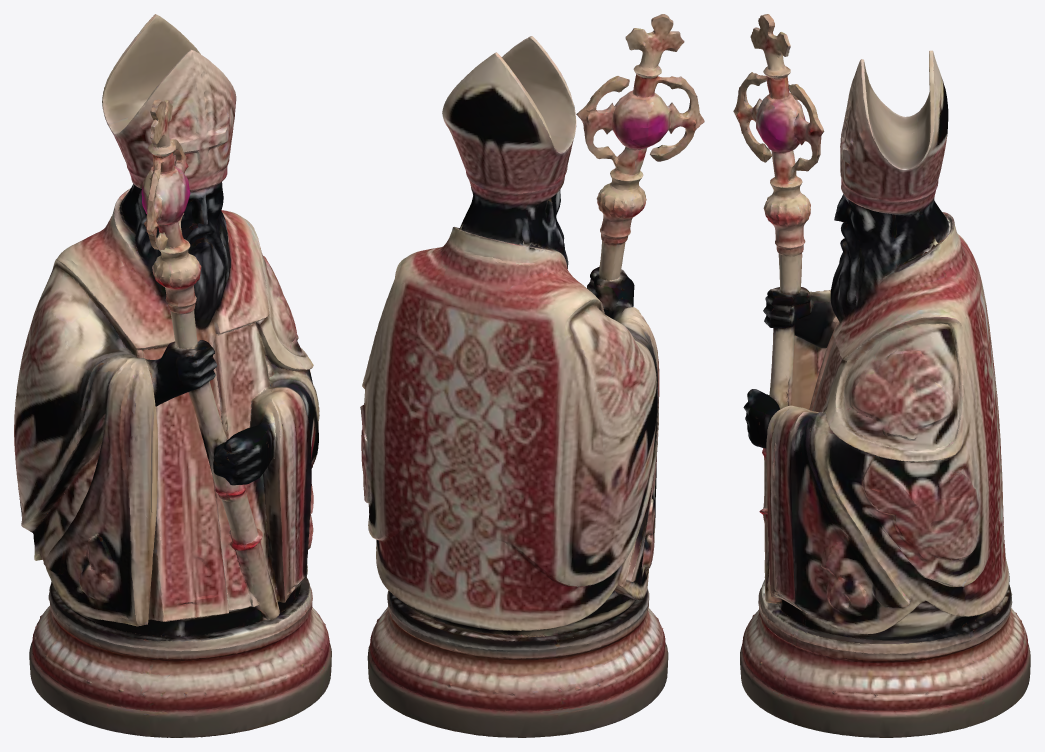
File: bishop_black.glb
The picture shows the model from 3 angles, left to right: view 1: azimuth 30°, elevation 25°; view 2: azimuth 150°, elevation 25°; view 3: azimuth 270°, elevation 25°; orthographic projection. The views are drawn at different scales.
Parts seen in each view (by area): view 1: model; view 2: model; view 3: model.
Boxes of the visible parts, x1=… form: model: x1=14, y1=14, x2=331, y2=737; model: x1=360, y1=14, x2=704, y2=737; model: x1=733, y1=14, x2=1030, y2=737.
Size of the model in its own units: 0.833 by 1.9 by 0.8163.
Materials: 1 (1 with a texture image).
